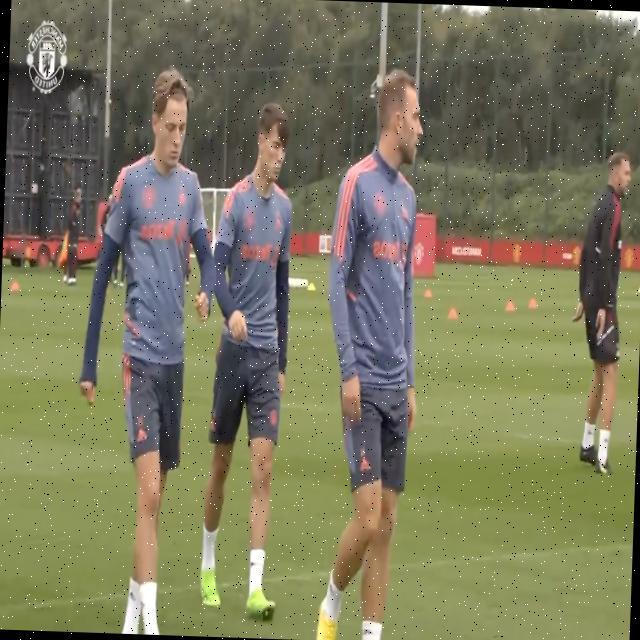Adidas: (135, 423, 149, 444), (359, 455, 372, 474)
